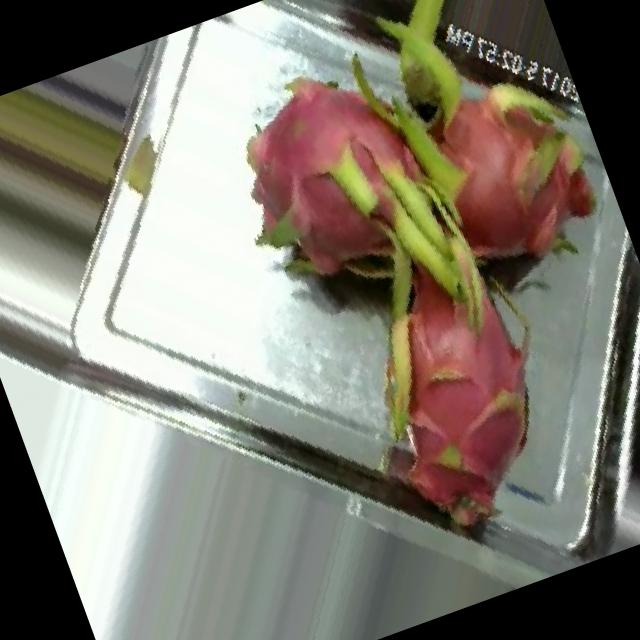Fruit: (306, 0, 487, 63)
